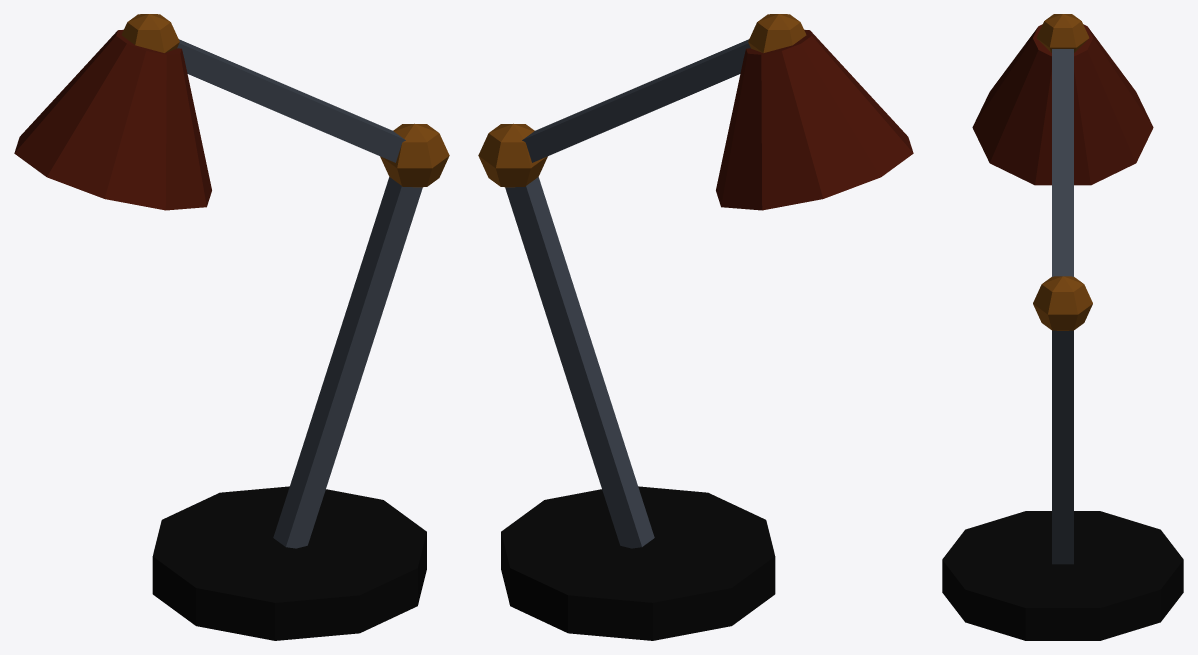
The model's file is SM_HLight_DeskLamp_Junk.glb.
3 renders of one model, left to right at view 1: azimuth 30°, elevation 25°; view 2: azimuth 150°, elevation 25°; view 3: azimuth 270°, elevation 25°, orthographic. The views are drawn at different scales.
Visible parts, largest first — view 1: SM_HLight_DeskLamp_Junk; view 2: SM_HLight_DeskLamp_Junk; view 3: SM_HLight_DeskLamp_Junk.
Part boxes in pixels (x1,y1,x2,y2): SM_HLight_DeskLamp_Junk: (14,14,449,640); SM_HLight_DeskLamp_Junk: (478,14,913,640); SM_HLight_DeskLamp_Junk: (942,14,1183,640).
Size of the model in its own units: 0.3381 by 0.4743 by 0.2.
